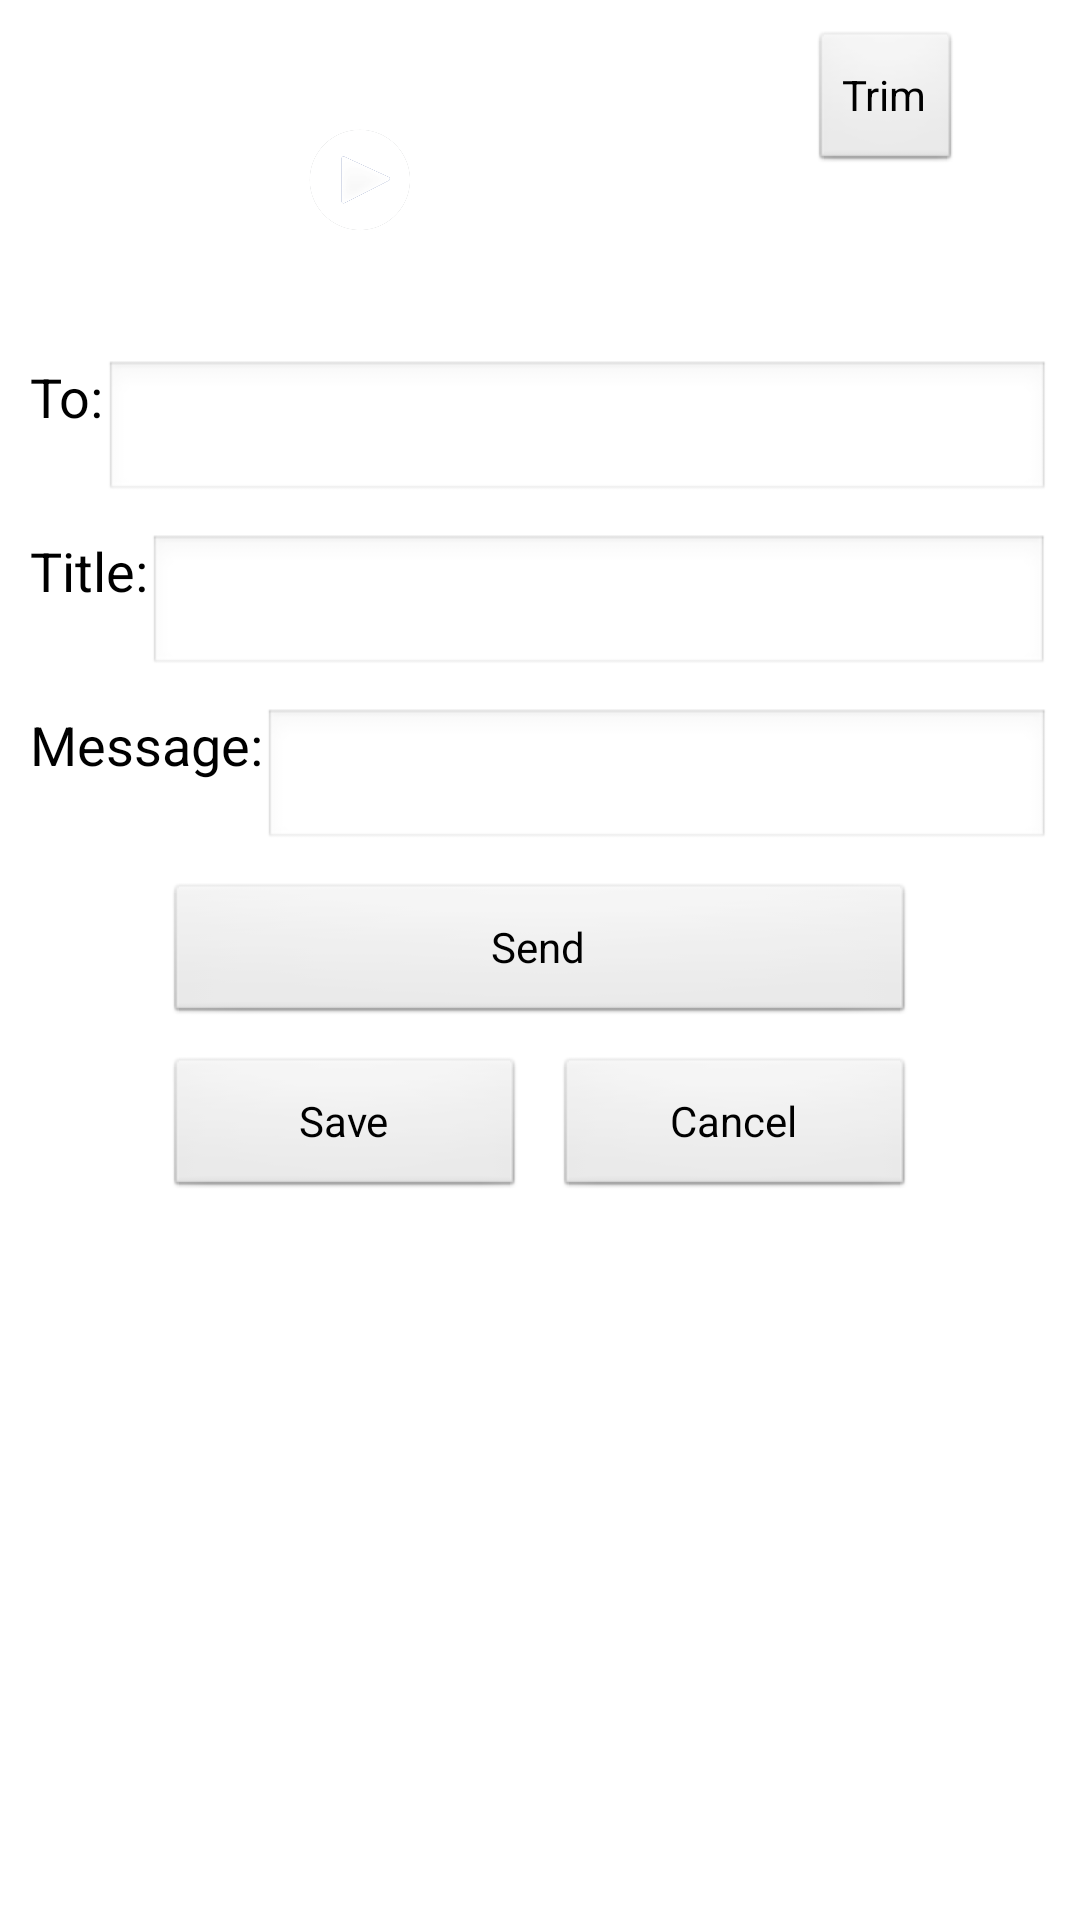

Icon bounding boxes for this 1080x1920 phone screenshot, format (x1, y1, x2, y2):
aclipsa playbtn: (341, 156, 390, 204)
